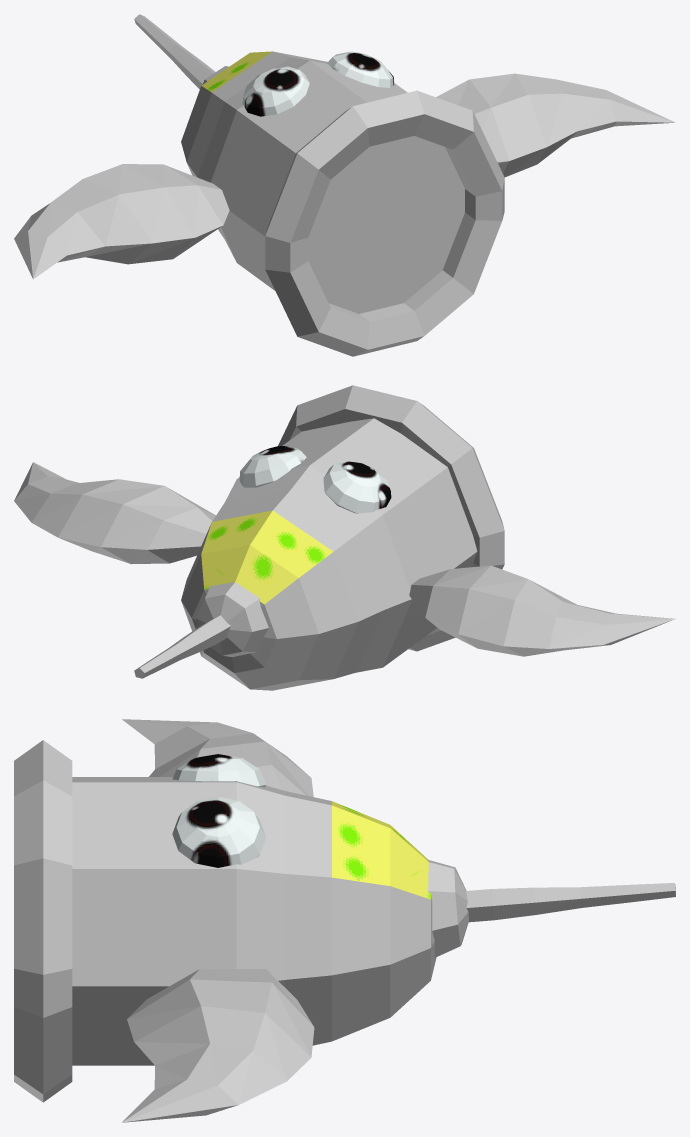
The model's file is BR_Weepinbell.obj.
3 views of the same model, one above another, from view 1: azimuth 30°, elevation 25°; view 2: azimuth 150°, elevation 25°; view 3: azimuth 270°, elevation 25° (orthographic). The views are drawn at different scales.
Visible parts, largest first — view 1: utsudon; view 2: utsudon; view 3: utsudon.
Part boxes in pixels (<box>): utsudon: <box>14,14,674,356</box>; utsudon: <box>14,385,675,690</box>; utsudon: <box>14,719,675,1122</box>.
Bounding box in the file's own units: 15.56 × 5.8 × 10.78.
